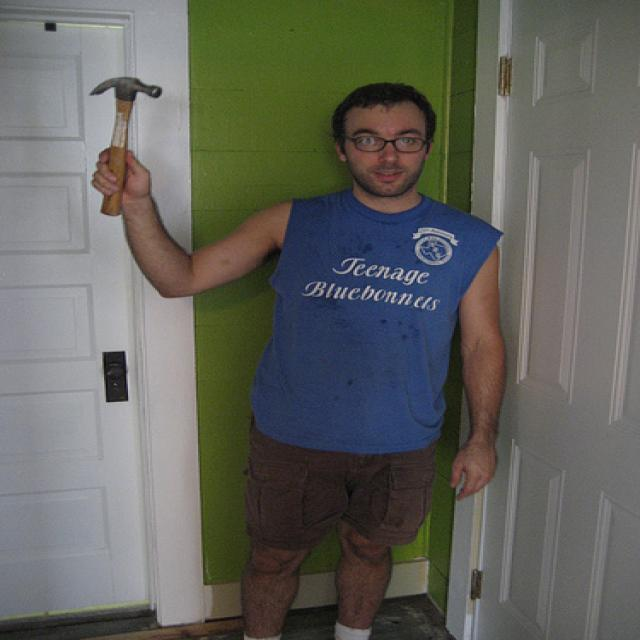hammer: (83, 71, 173, 222)
